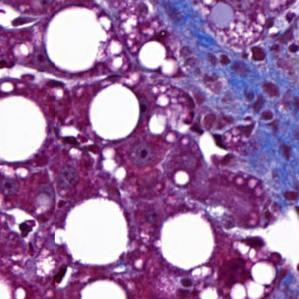inflammation: (192, 118, 237, 169), (61, 131, 104, 165), (4, 210, 39, 243), (51, 263, 76, 291)
